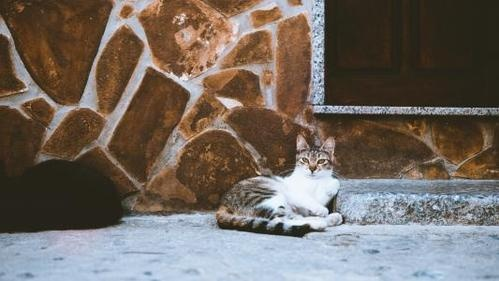cat: (217, 133, 344, 238)
